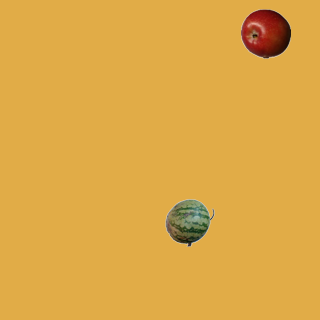Apple Braeburn: (240, 8, 290, 58)
Watermelon: (164, 197, 214, 247)
